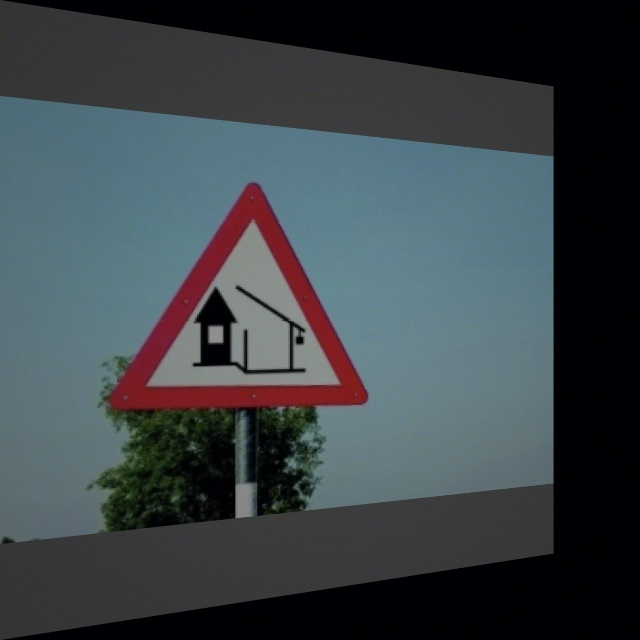Barrier_Ahead: (117, 169, 369, 420)
